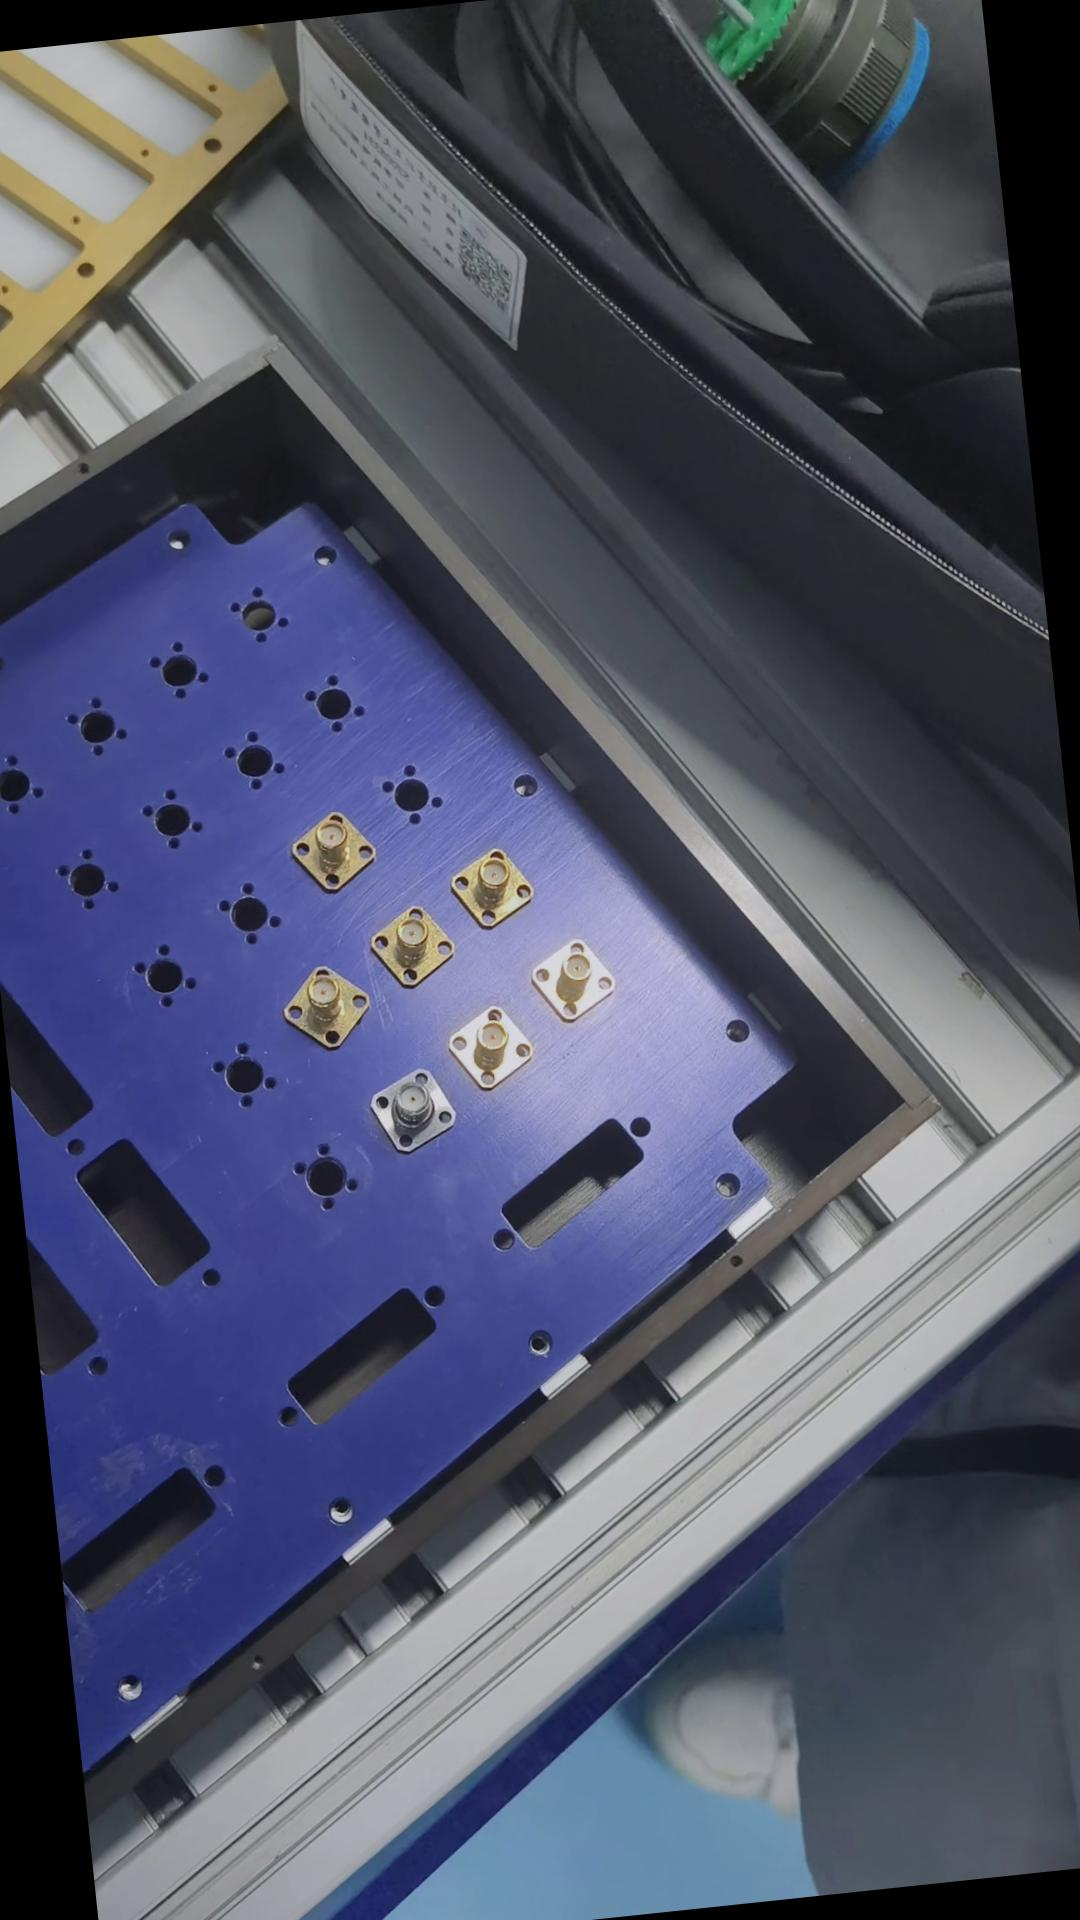SMA: (363, 1062, 458, 1162), (272, 960, 368, 1054), (363, 895, 451, 993), (439, 998, 527, 1095), (284, 808, 378, 897), (442, 841, 531, 934), (527, 932, 615, 1026)
